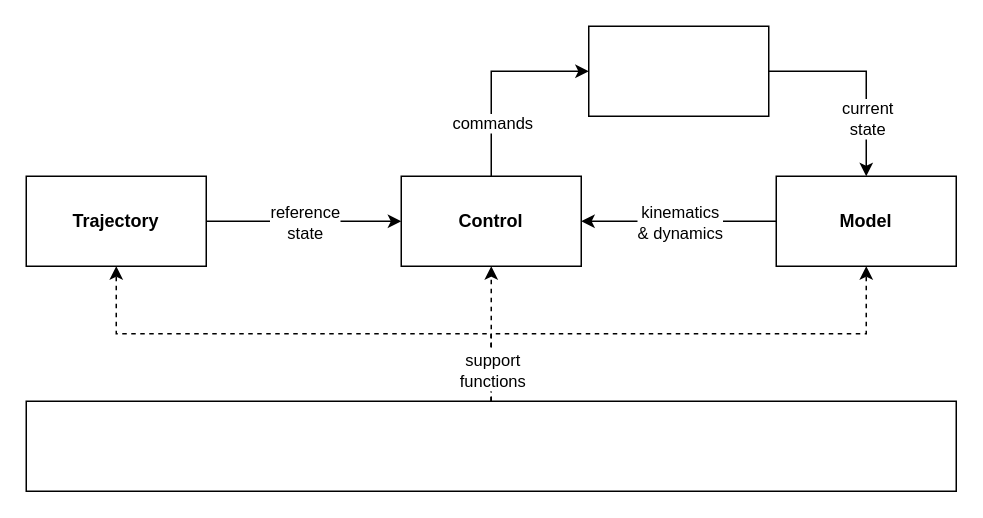
This 983x518 diagram has some shape labels left out. The shapes that lost their labels are listed below. From the top down, each one's box as (x1, y1, x2, y2) in pixels, then its label:
(587, 25, 769, 116): Robot
(25, 400, 956, 491): Math
